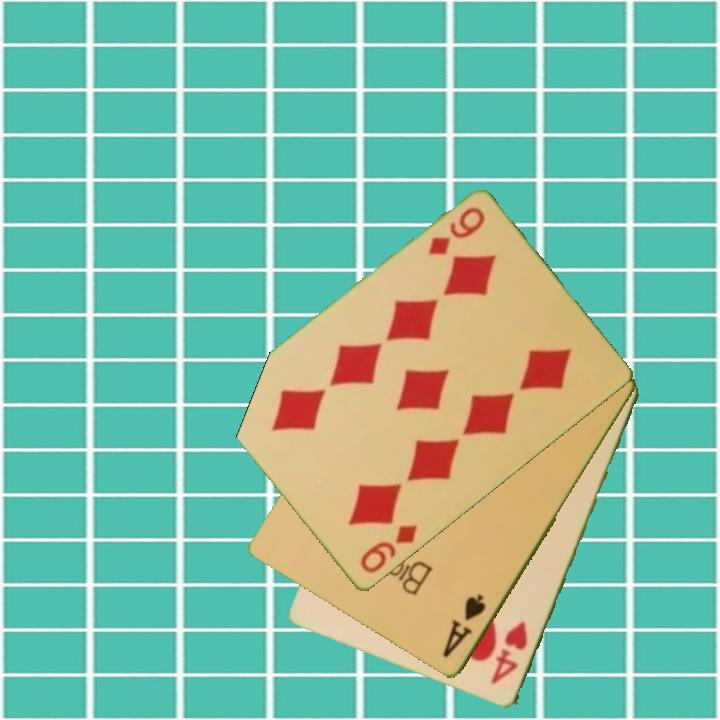4h: (487, 618, 531, 688)
9d: (356, 521, 421, 577), (424, 204, 488, 259)
As: (439, 590, 489, 661)
